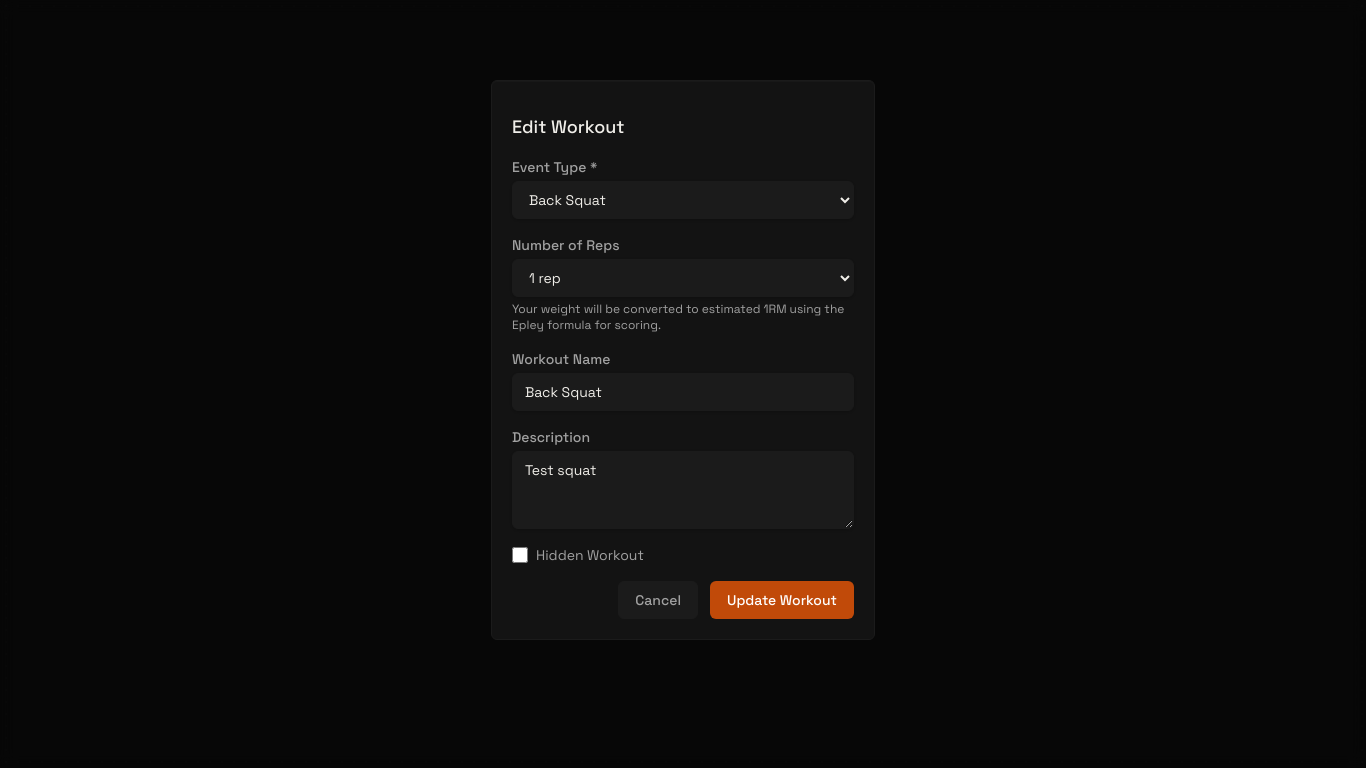
Scenario: EditWorkoutModal › updates name when event type changes
Select "Bench Press" in the dropdown labelled "Event Type *": (683, 200) 512,181 -> 854,219
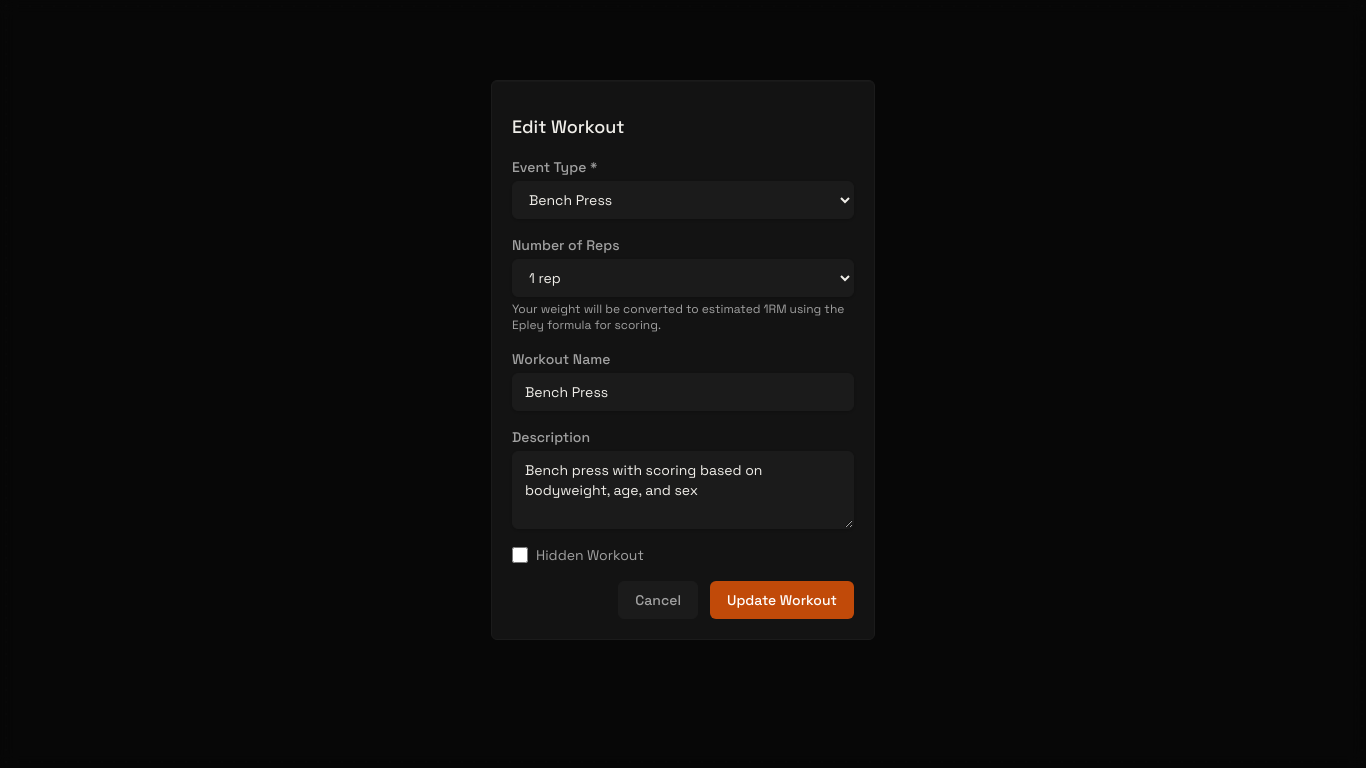
Result: the field labelled "Workout Name" holds "Bench Press" at 512,373 -> 854,411
